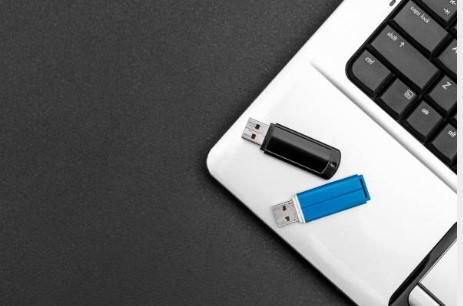USB Flash Drive: (241, 118, 342, 181), (270, 174, 371, 228)
